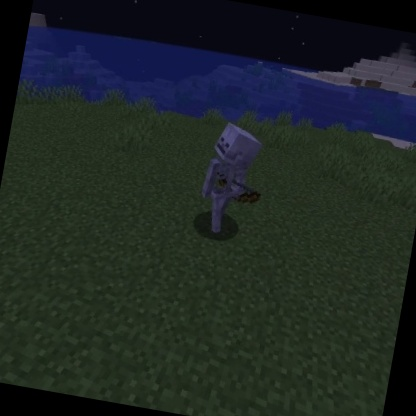skeleton: (189, 116, 278, 244)
